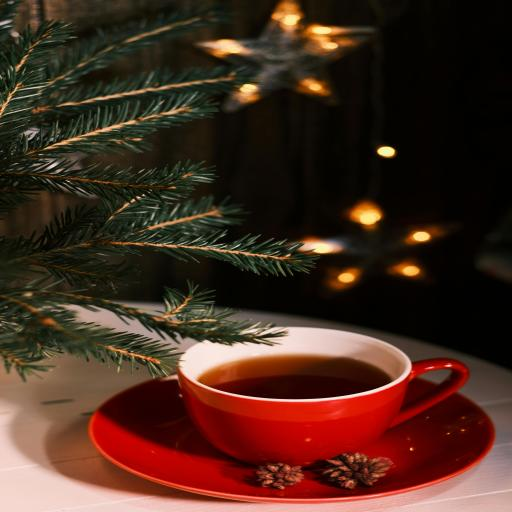phone: (180, 326, 471, 470)
